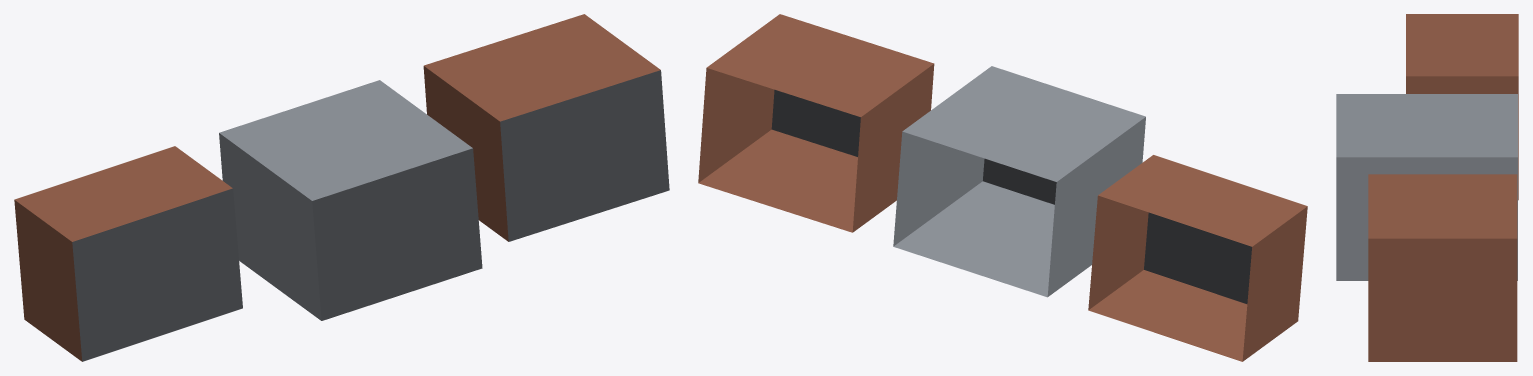
File: island_bldg_23_09.obj
3 views of the same model, side by side, from view 1: azimuth 30°, elevation 25°; view 2: azimuth 150°, elevation 25°; view 3: azimuth 270°, elevation 25° (orthographic). The views are drawn at different scales.
Visible parts, largest first — view 1: island_bldg_23_09; view 2: island_bldg_23_09; view 3: island_bldg_23_09.
Boxes of the visible parts, x1,y1,x2,y2 form: island_bldg_23_09: (14, 14, 669, 361); island_bldg_23_09: (698, 14, 1307, 361); island_bldg_23_09: (1336, 14, 1518, 361).
Size of the model in its own units: 78.8 by 22.09 by 22.12.
